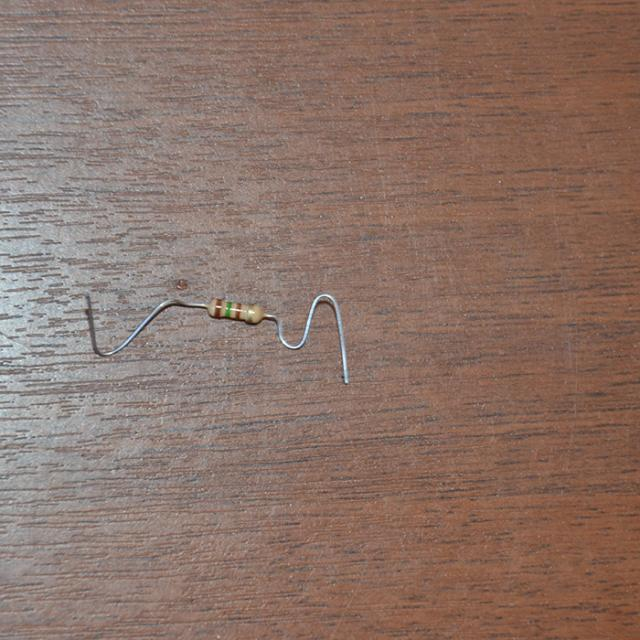brown: (214, 300, 220, 315), (234, 305, 240, 319)
gold: (247, 305, 254, 321)
green: (225, 304, 231, 316)
resistor: (198, 292, 275, 335)
